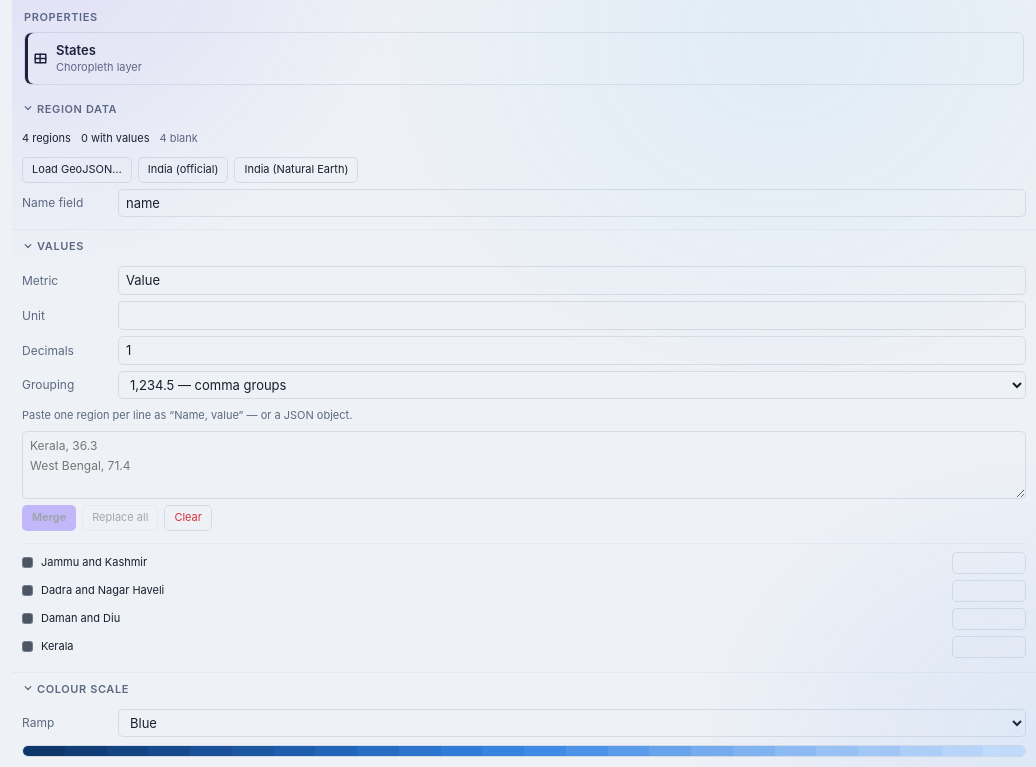
Test: pasting values › accepts a publisher spelling the map does not use
The width and height of the screenshot is (1036, 767).
In the text box with placeholder "Kerala, 36.3 West Bengal, 71.4": (524, 465) [22, 431, 1026, 499], type "Jammu & Kashmir, 50"
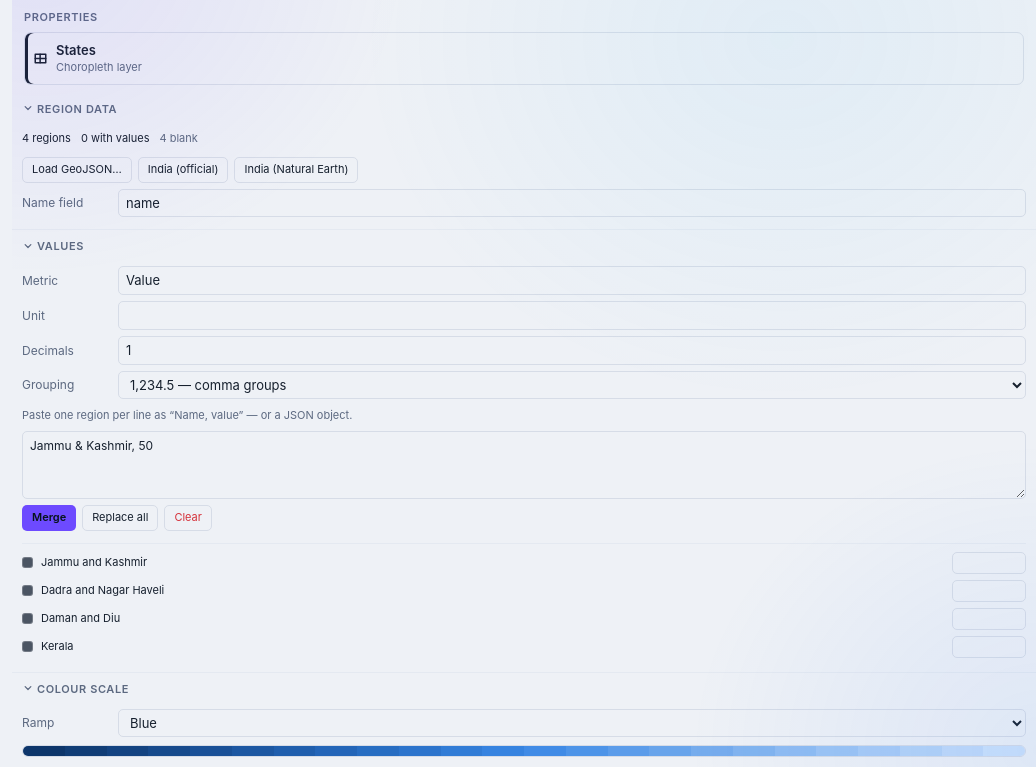
Click the button "Merge": (49, 518) [22, 505, 76, 531]
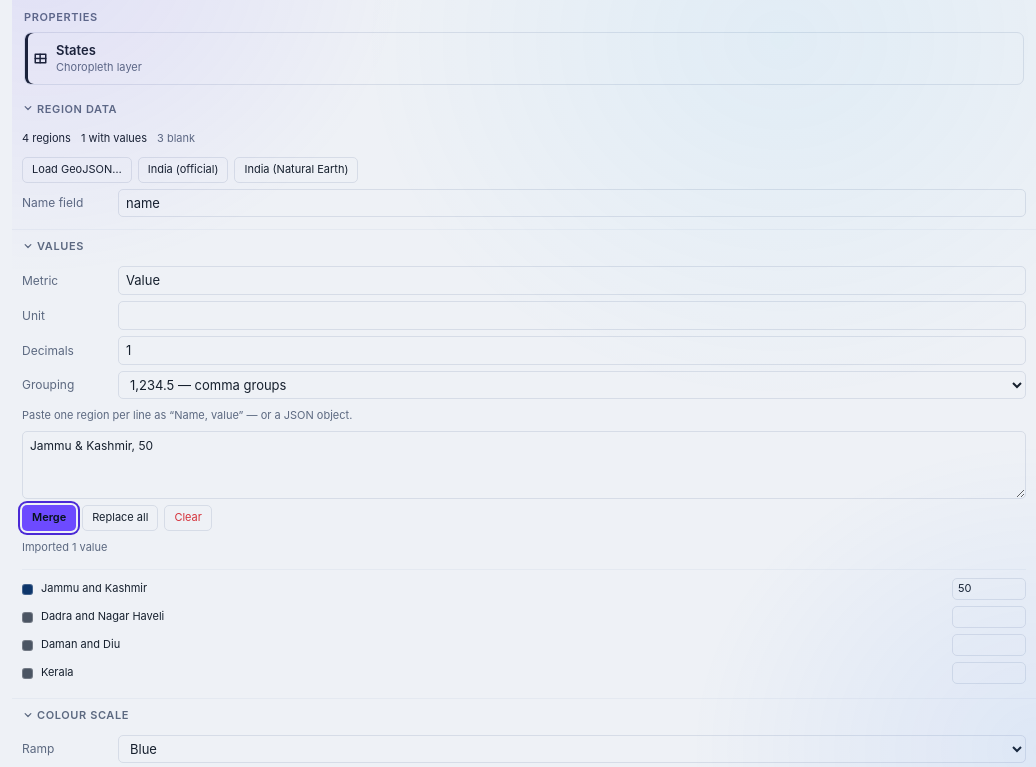
Expected: the text "Imported 1 value" is shown, [22, 540, 107, 554]
